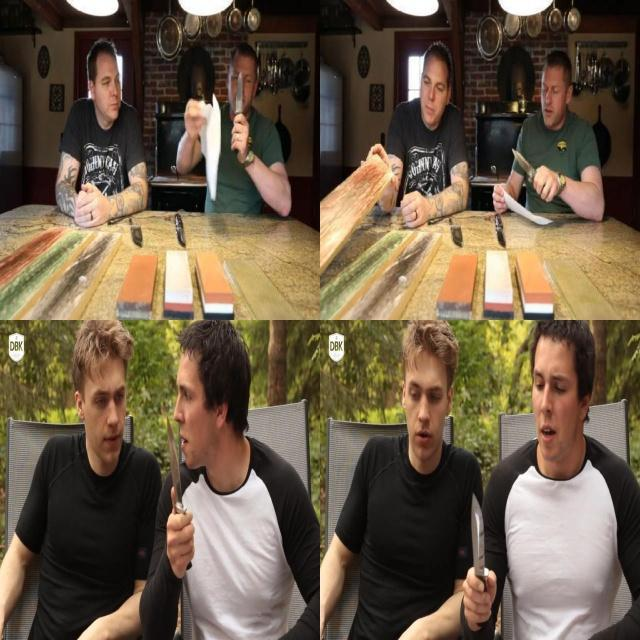-: (160, 406, 196, 575), (459, 486, 499, 616), (508, 142, 549, 199), (232, 66, 249, 137)
